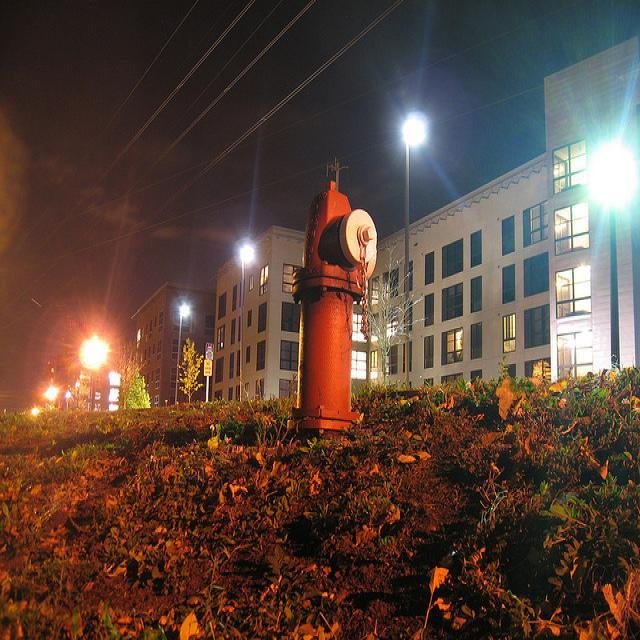fire_hydrant: (290, 180, 378, 430)
